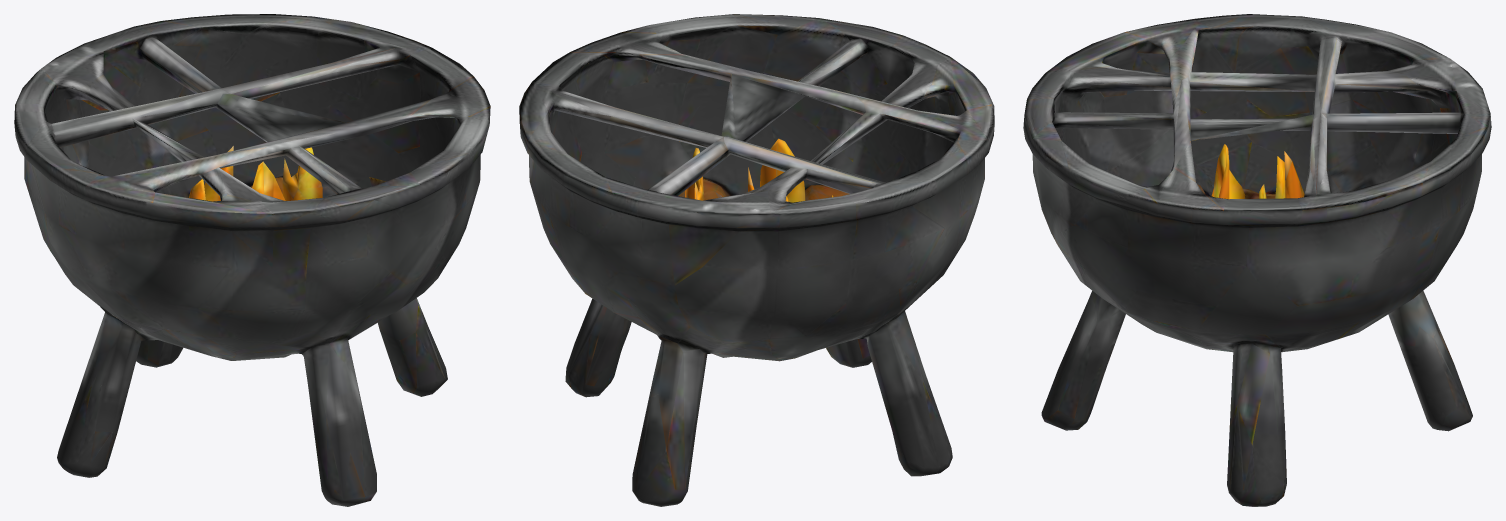
The model's file is grill.glb.
3 renders of one model, left to right at view 1: azimuth 30°, elevation 25°; view 2: azimuth 150°, elevation 25°; view 3: azimuth 270°, elevation 25°, orthographic. The views are drawn at different scales.
Bounding box in the file's own units: 1.91 × 1.44 × 1.92.
Materials: 1 (1 with a texture image).
